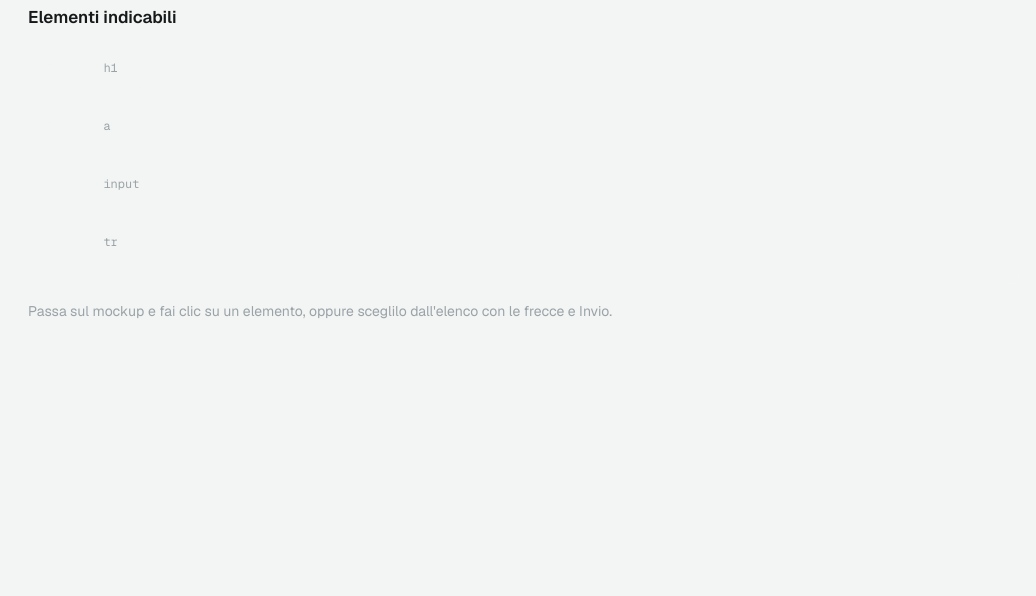
Test: mockup inspector › shows the chosen element with its screen, its text and its requirements one per line
Click the option "ELM-004 tr Rossi 12 giorni" at (91, 252), box [45,234,136,270]
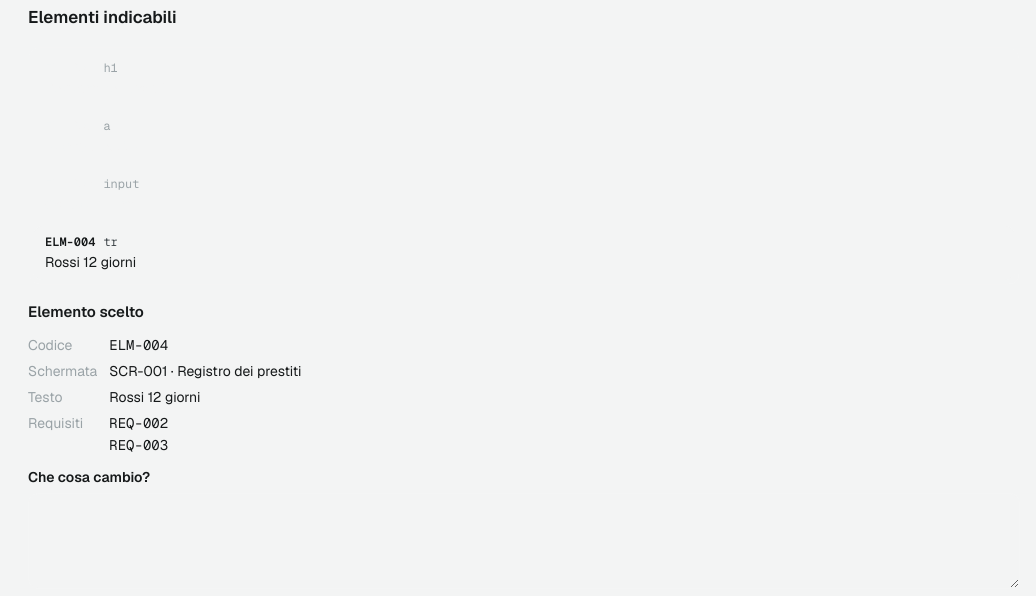
expect the text "ELM-004" below "Cerca un libro" is shown: met, box [45,234,95,250]
expect the heading "Elemento scelto" is shown: met, box [28,302,144,320]
expect the text with test id "mockup-selection-screen" reads "SCR-001 · Registro dei prestiti": met, box [109,362,301,380]
Click the option with test id "mockup-element" that starts with "ELM-001" at (107, 78), box [45,60,169,96]
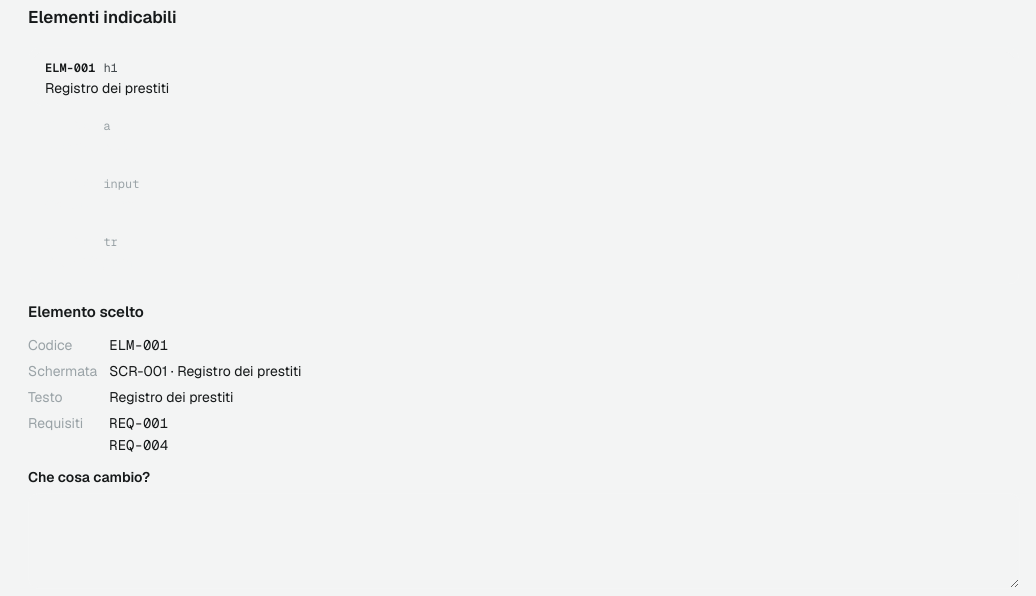
expect the label "Che cosa cambio?" is shown: met, box [28,468,150,486]
Type "Più grande 😀" into the text box with test id "mockup-request" at (524, 541), box [28,493,1020,589]
(page scrolled)
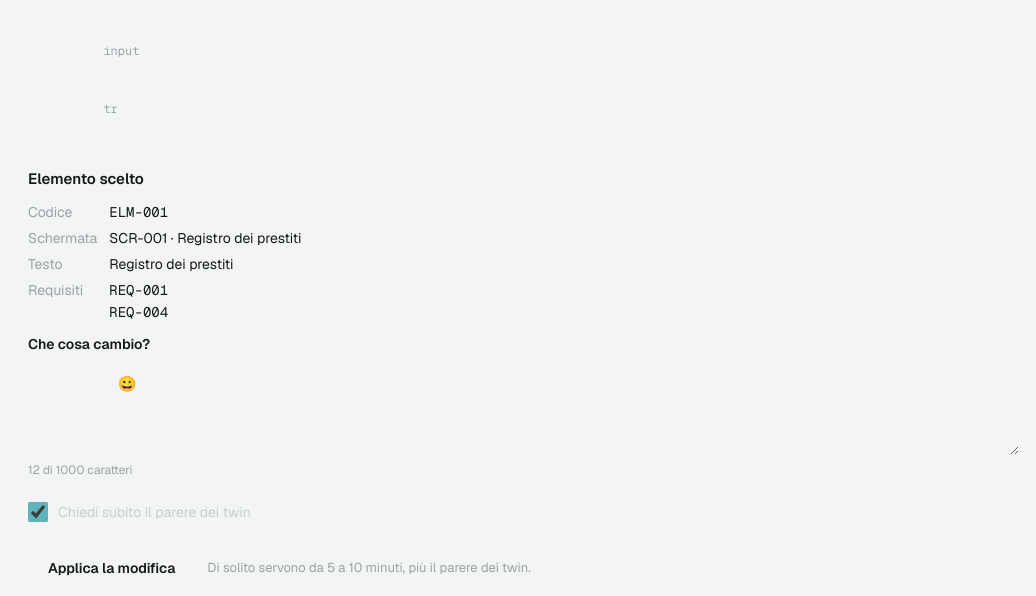
expect the checkbox with test id "mockup-review" is checked: met
expect the label with test id "mockup-review" reads "Chiedi subito il parere dei twin": met, box [58,503,251,521]
expect the text with test id "mockup-request-count" reads "12 di 1000 caratteri": met, box [28,462,132,478]
Click the checkbox with test id "mockup-review" at (38, 512), box [28,502,48,522]
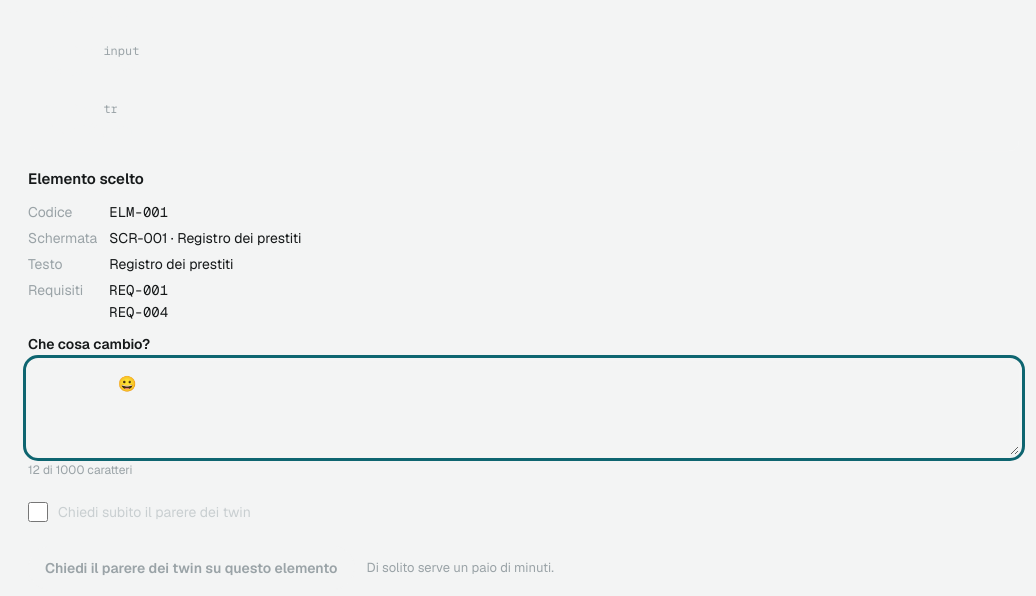
Press Escape in the text box with test id "mockup-request", box [28,360,1020,456]
(page scrolled)
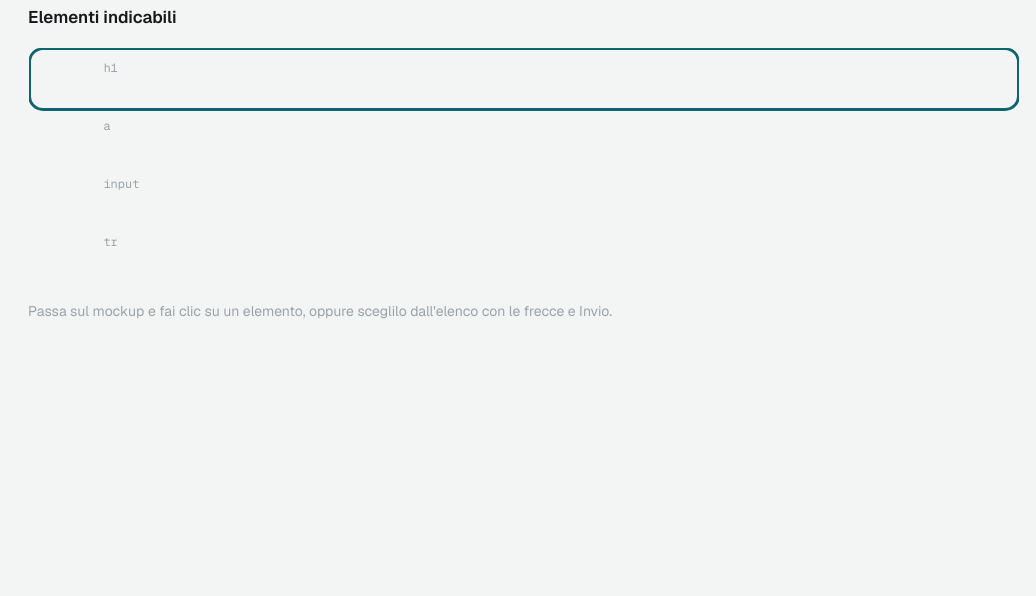
Click the option with test id "mockup-element" that starts with "ELM-001" at (107, 78), box [45,60,169,96]
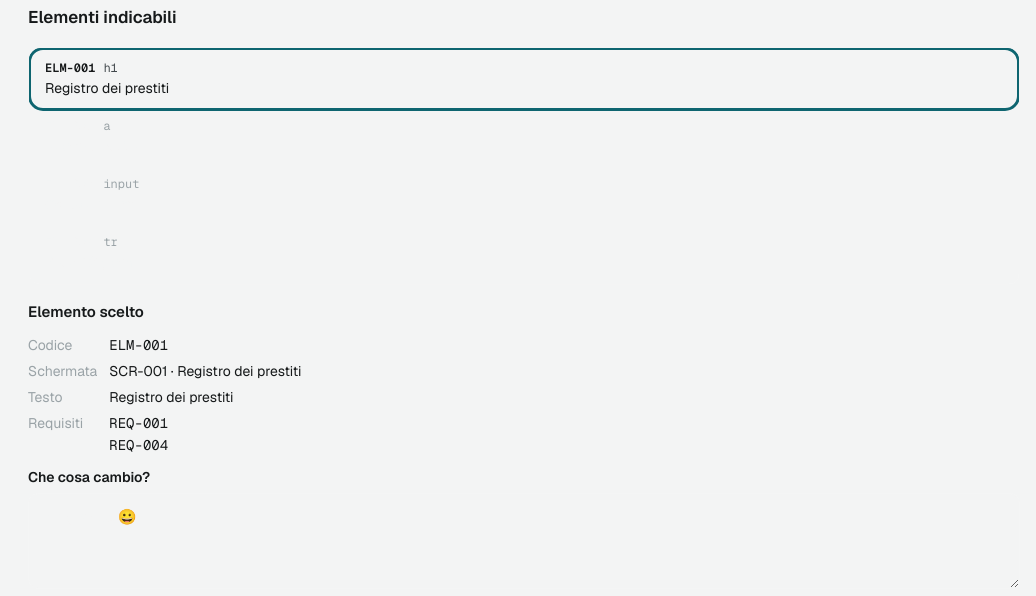
expect the text box with test id "mockup-request" holds "Più grande 😀": met, box [28,493,1020,589]
